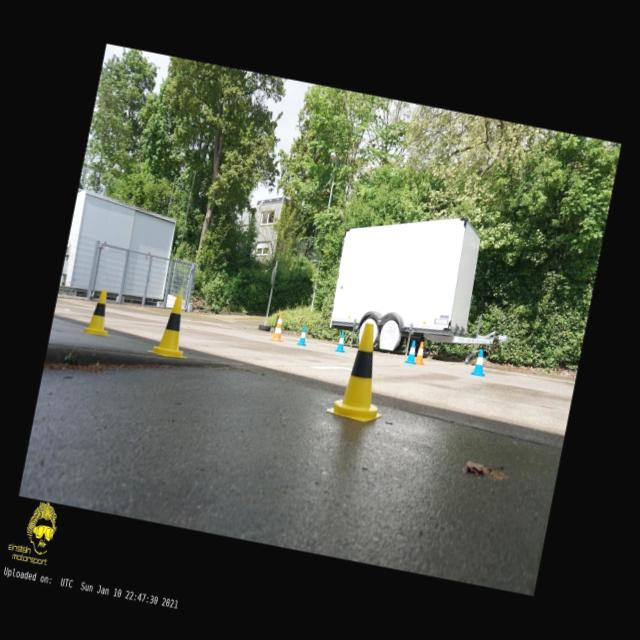blue_cone: (471, 348, 490, 376), (404, 340, 420, 364), (334, 331, 348, 353), (297, 326, 309, 346)
large_orange_cone: (270, 310, 288, 342)
orange_cone: (413, 341, 428, 365)
yellow_cone: (326, 318, 398, 425), (147, 292, 198, 361), (82, 288, 116, 336)
